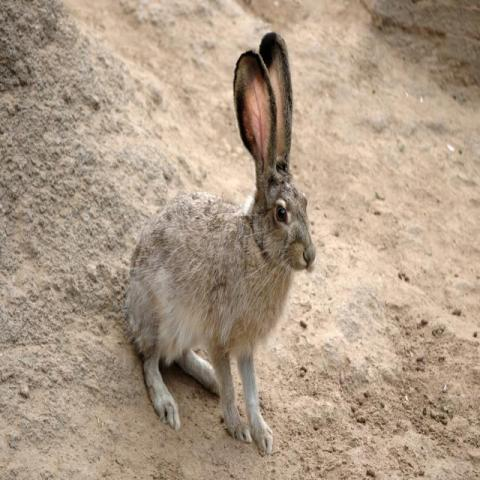small_animal: (121, 31, 318, 456)
